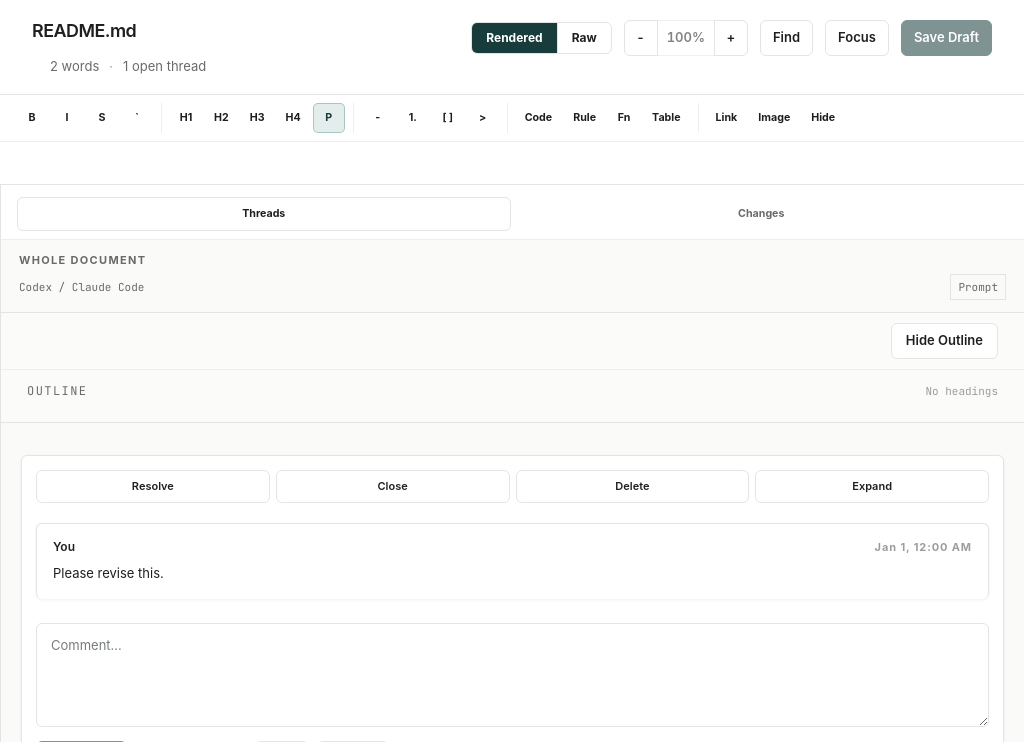
Test: DocumentEditor keyboard shortcuts › opens the full proposal response when the selected thread is expanded
What coordinates should you click on to do the following:
click the button "Expand"
I would click on:
 (872, 486)
Its box is top-left (755, 470), bottom-right (989, 502).
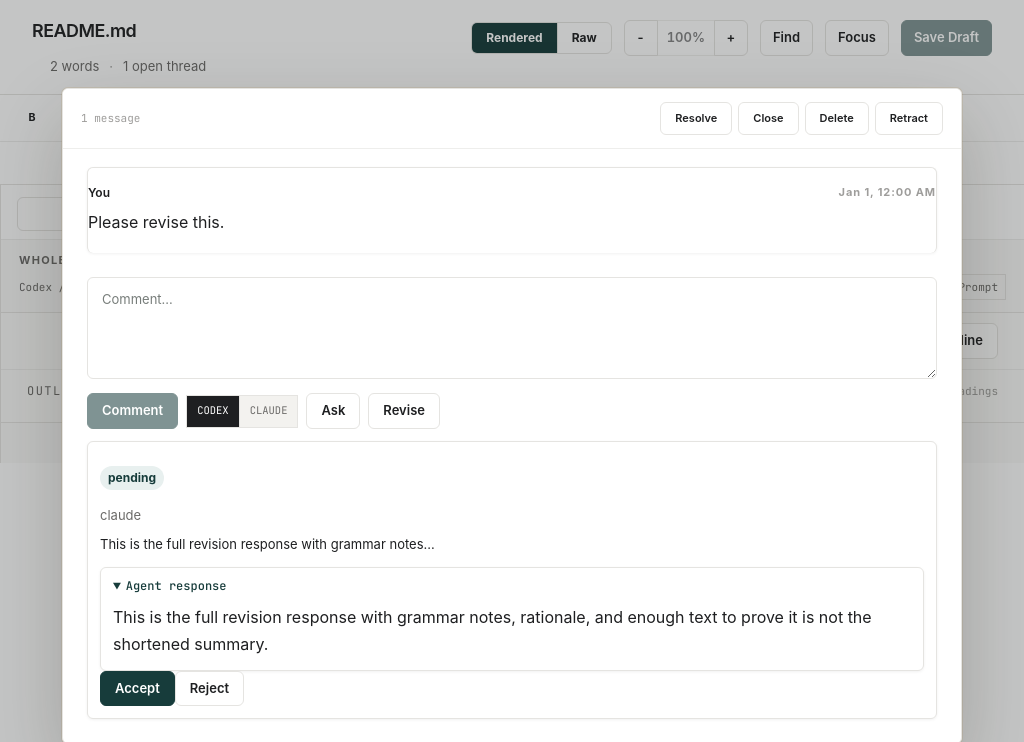
expect the text "Agent response" shows "This is the full revision response with grammar notes, rationale": met, box top-left (113, 607), bottom-right (876, 654)
